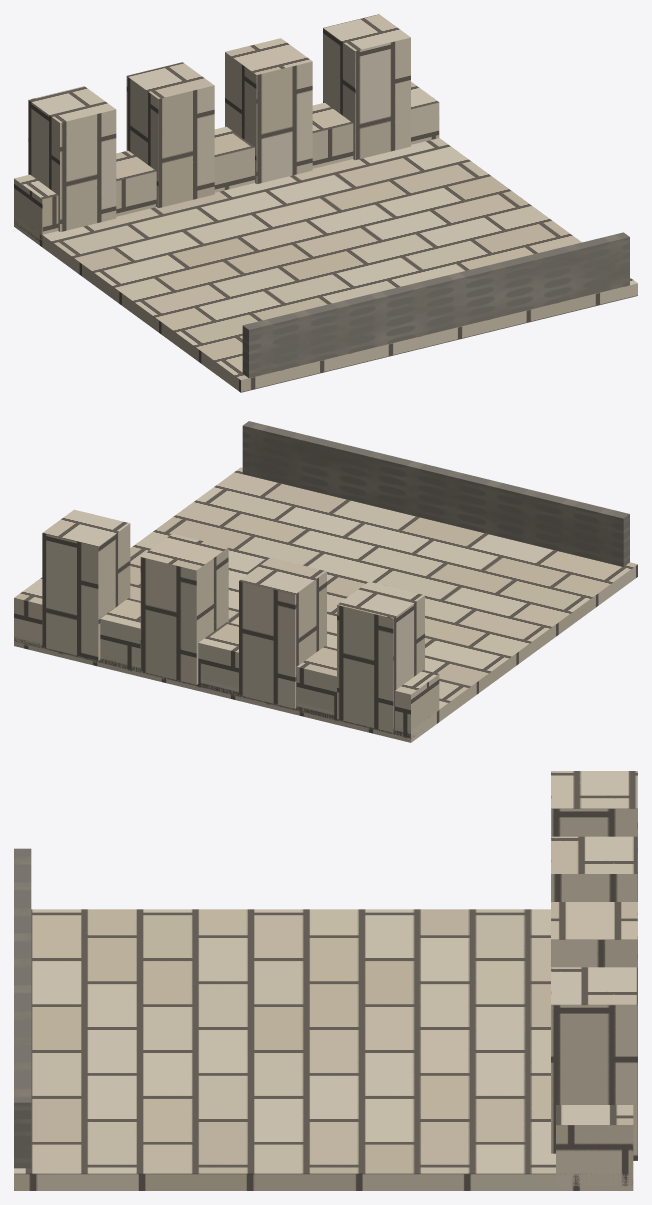
The model's file is castle_battlement.glb.
3 renders of one model, top to bottom at view 1: azimuth 30°, elevation 25°; view 2: azimuth 150°, elevation 25°; view 3: azimuth 270°, elevation 25°, orthographic. The views are drawn at different scales.
Visible parts, largest first — view 1: castle_battlement; view 2: castle_battlement; view 3: castle_battlement.
Part boxes in pixels (x1,y1,x2,y2): castle_battlement: (14,14,637,392); castle_battlement: (14,421,637,742); castle_battlement: (14,771,637,1190).
Size of the model in its own units: 3.96 by 1.16 by 3.95.
Materials: 1 (1 with a texture image).
